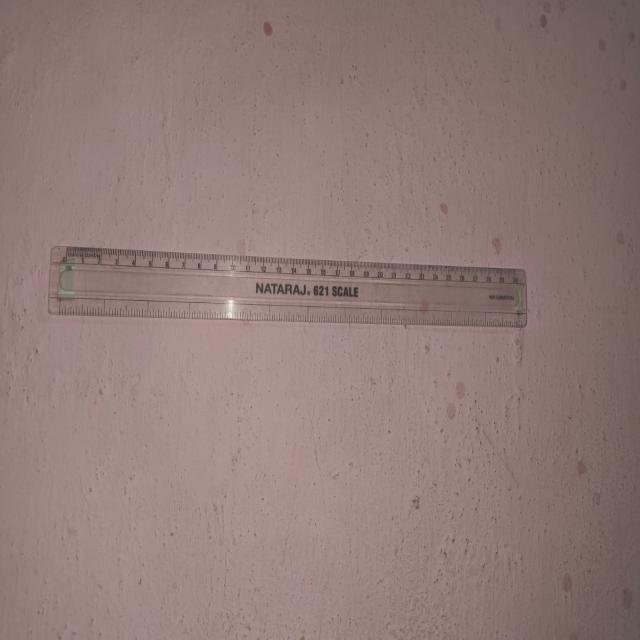scale: (47, 254, 536, 326)
